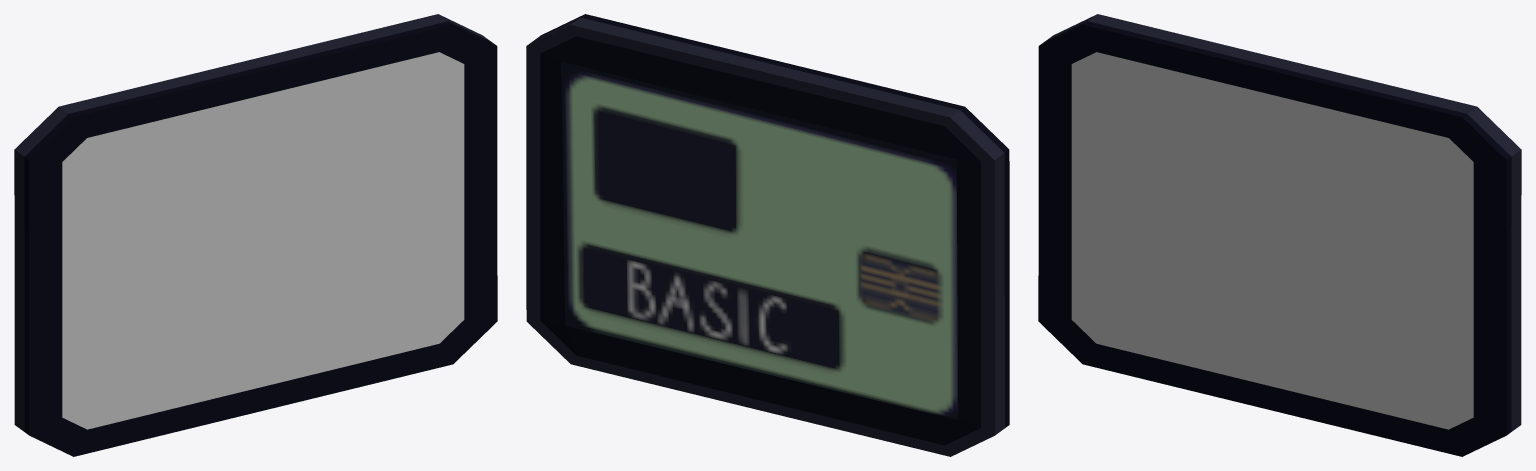
Rendered from MemberCard.Basic.002.fbx.
3 renders of one model, left to right at view 1: azimuth 30°, elevation 25°; view 2: azimuth 150°, elevation 25°; view 3: azimuth 330°, elevation 25°, orthographic.
Visible parts, largest first — view 1: MemberCard.Basic.002; view 2: MemberCard.Basic.002; view 3: MemberCard.Basic.002.
Boxes of the visible parts, x1,y1,x2,y2 form: MemberCard.Basic.002: [14, 14, 497, 456]; MemberCard.Basic.002: [526, 14, 1009, 456]; MemberCard.Basic.002: [1038, 14, 1521, 456].
Size of the model in its own units: 52.25 by 36.21 by 3.07.
